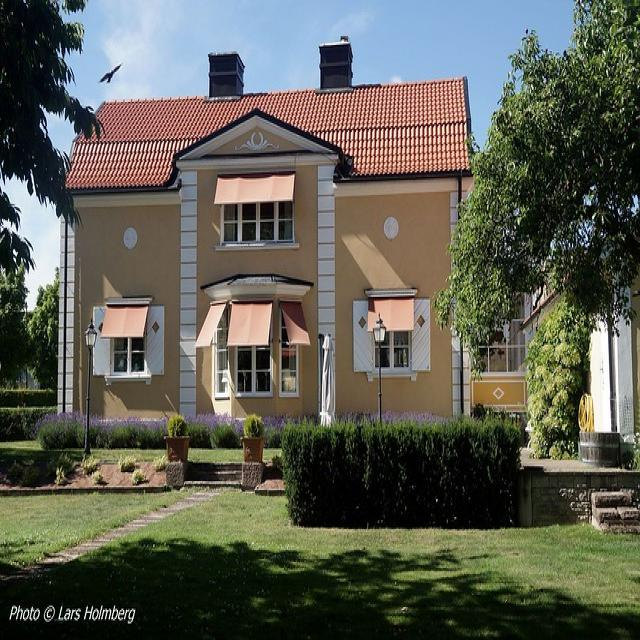Normal_building: (52, 43, 542, 455)
